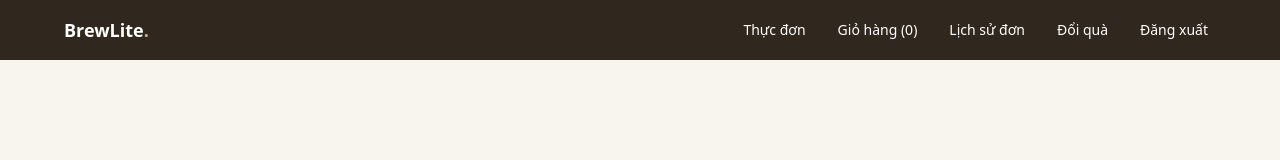
Test: Điều hướng BrewLite › đồng bộ brewlite-auth và đăng xuất
Click the button "Đăng xuất".
click(1174, 30)  # box left=1132, top=12, right=1216, bottom=48
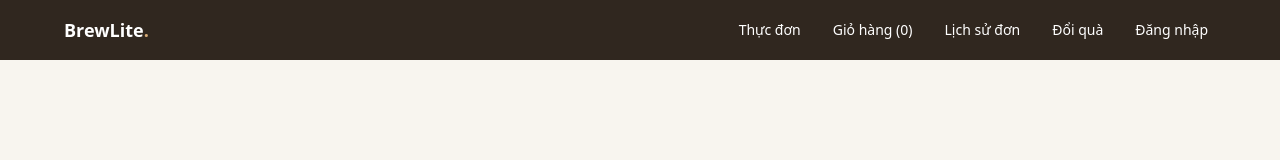
Now the link "Đăng nhập" is shown, box left=1135, top=20, right=1208, bottom=39
